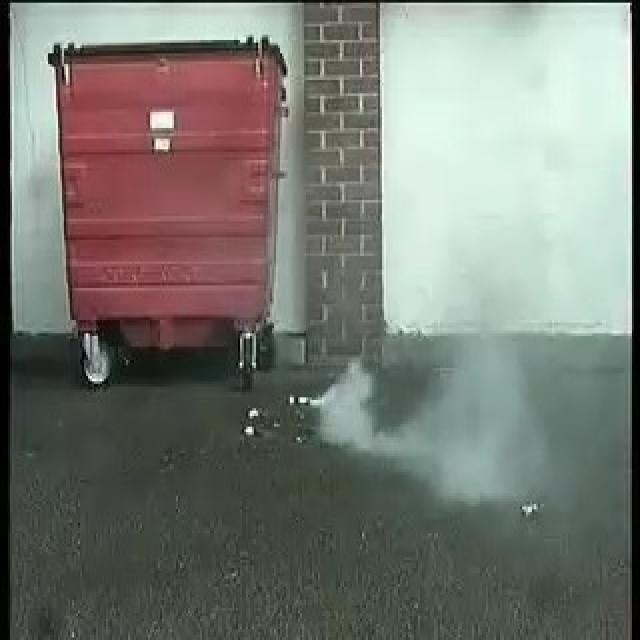smoke: (310, 334, 554, 462)
